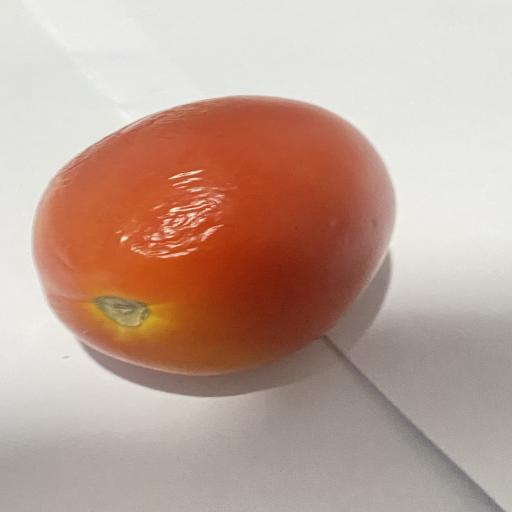spoiled: (33, 96, 395, 375)
